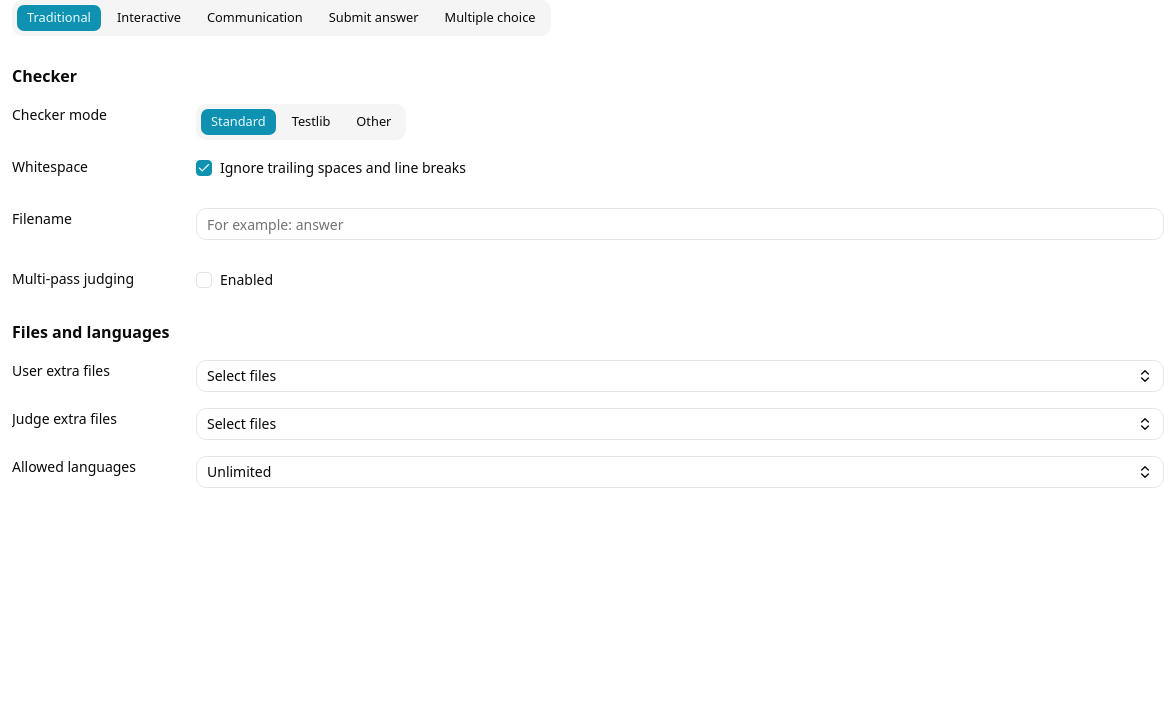
it: BasicConfigTab › associates the preset checker label with its select
The width and height of the screenshot is (1176, 720).
Step 1. Click the radio button labelled "Testlib" → point(311, 122), box [281,108,341,136]
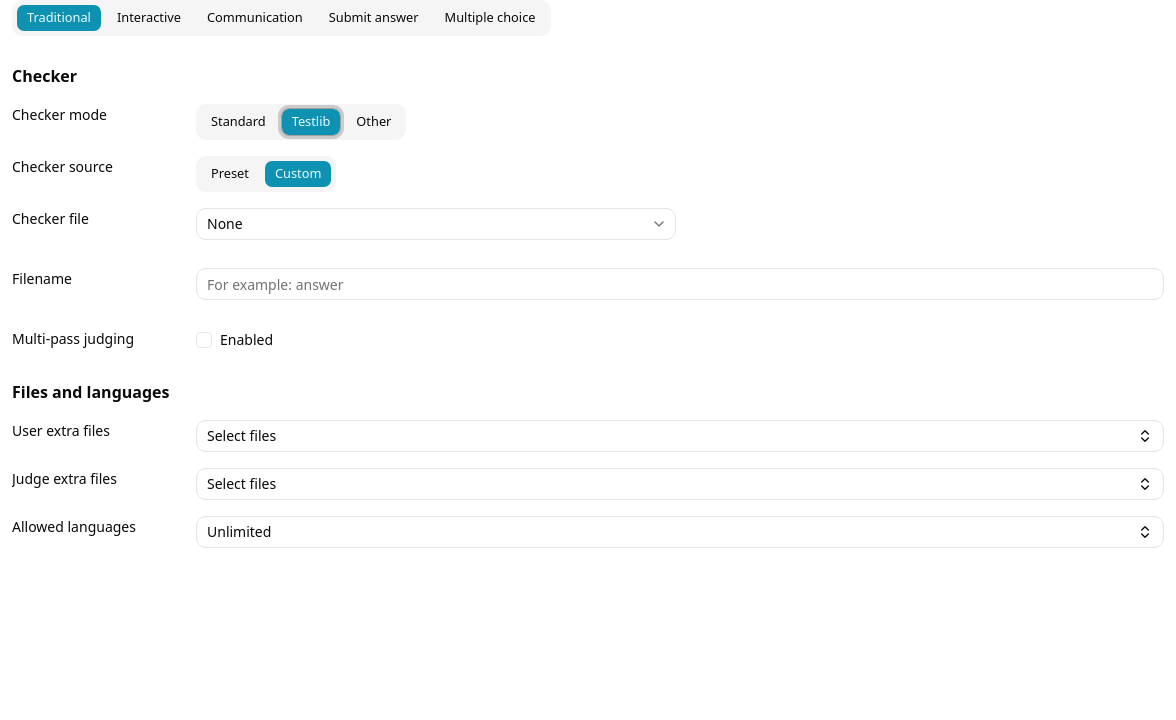
Step 2. Click the radio button labelled "Preset" → point(230, 174), box [200,160,260,188]
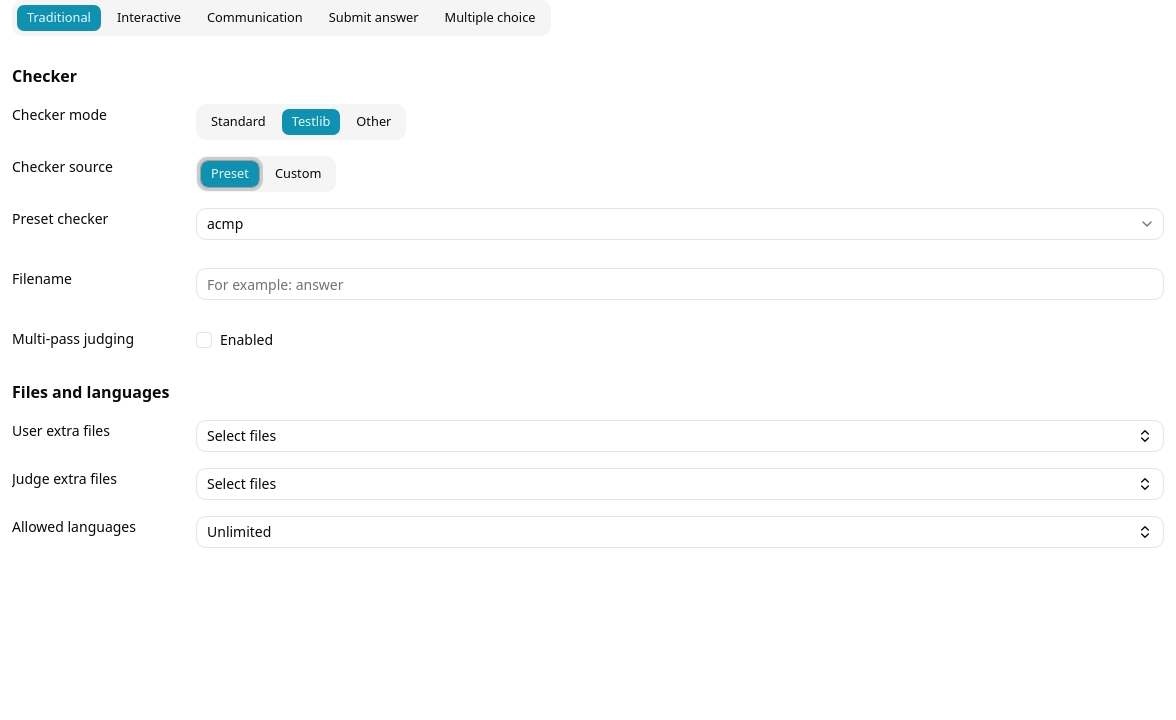
Check: the dropdown named "Preset checker" is shown, box [196,208,1164,240]
